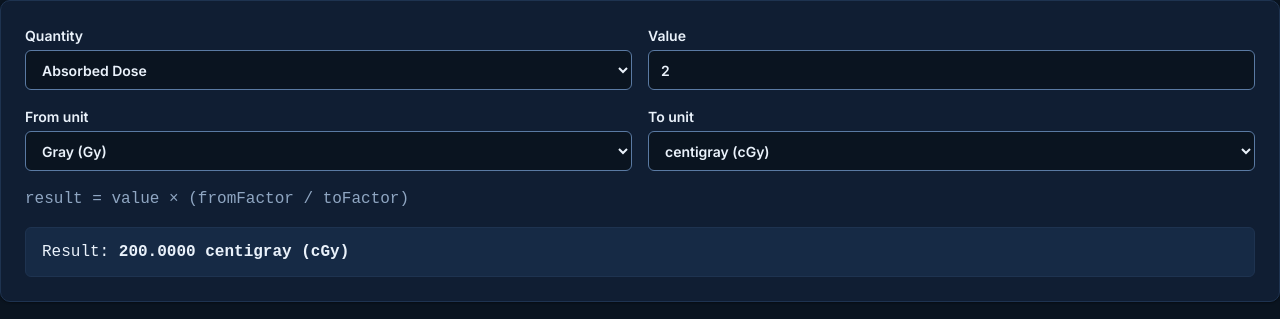
Test case: SiConverter › converts 250 cGy to Gy
This screenshot has width=1280, height=319.
Select "centigray (cGy)" in the dropdown labelled "From unit" at (328, 151), box [25, 131, 632, 171]
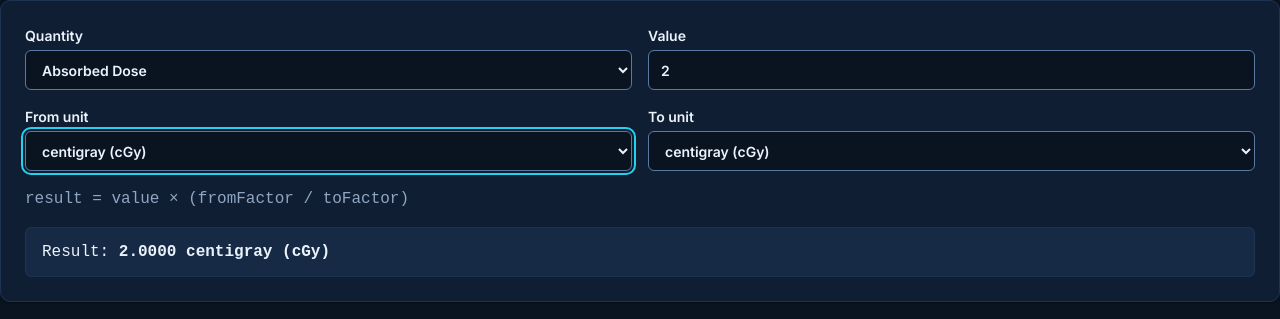
Select "Gray (Gy)" in the dropdown labelled "To unit" at (952, 151), box [648, 131, 1255, 171]
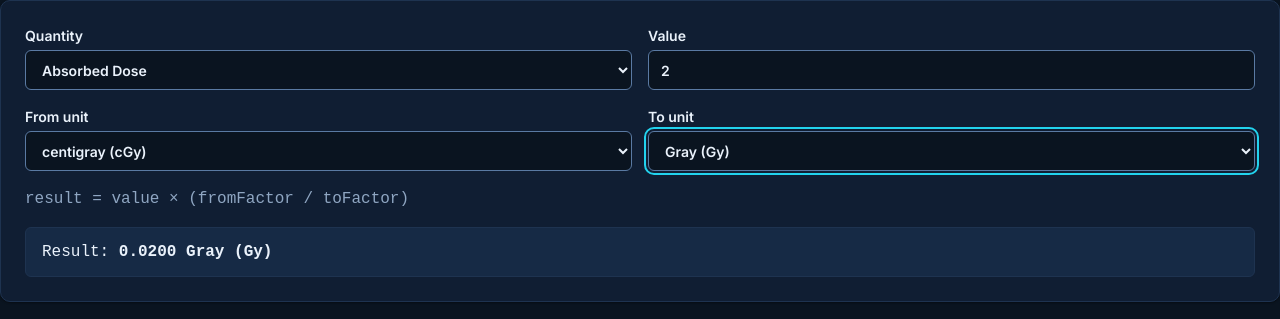
Replace the text in the number field labelled "Value" with "250" at (952, 70), box [648, 50, 1255, 90]
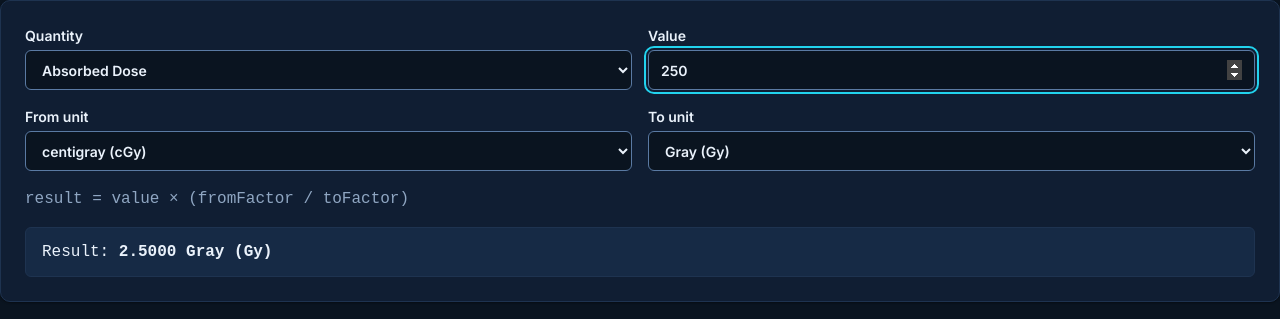
Expected: the text "2.5" is shown, [119, 243, 272, 261]
